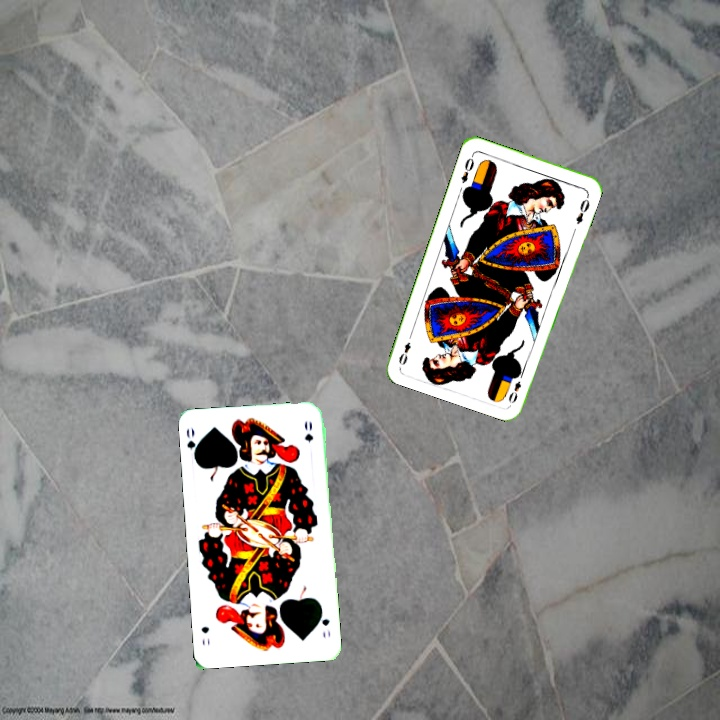EO: (457, 150, 477, 186), (505, 377, 524, 406)
GO: (182, 424, 202, 464), (315, 604, 333, 640)
